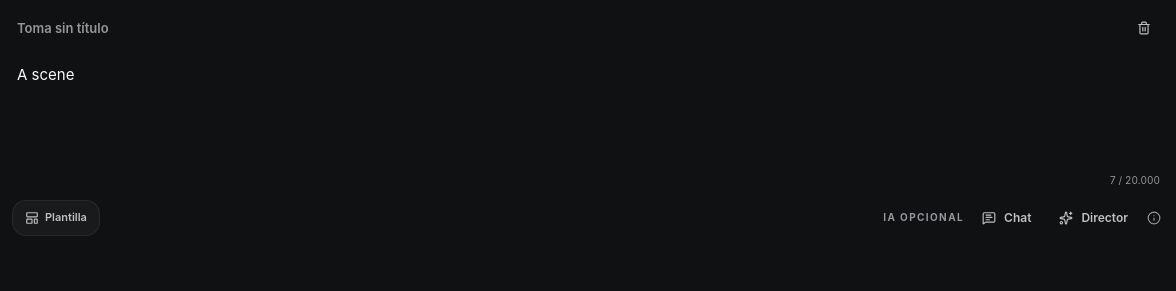
it: AI Director prompt preview › shows a local error beside the action
Click the button with aria-label "ai director": (1094, 218) [1047,200,1140,236]
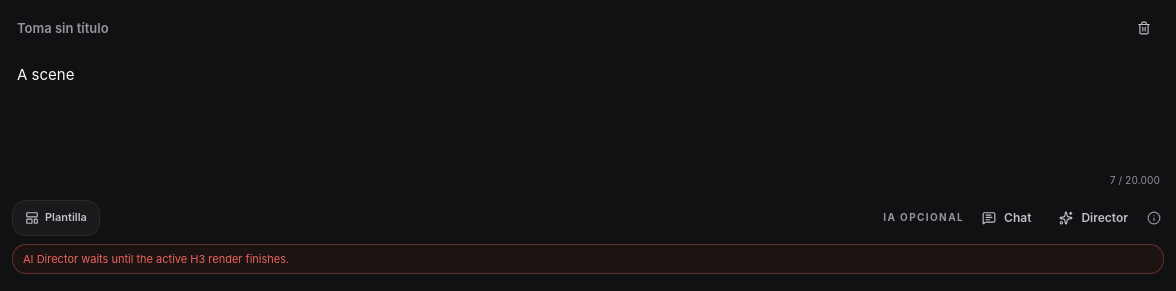
Check: the text "AI Director waits until the active H3 render finishes." is shown, box [12,244,1164,274]
